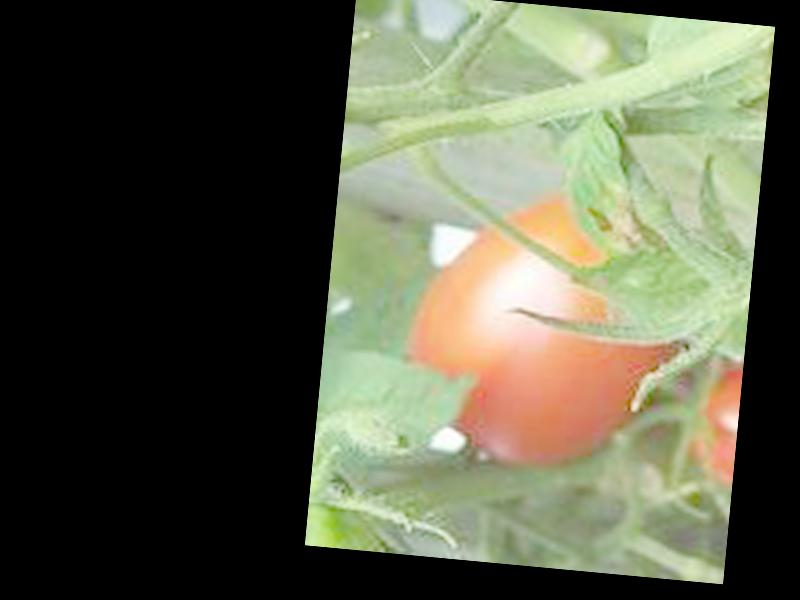Tomato: (397, 186, 678, 475)
